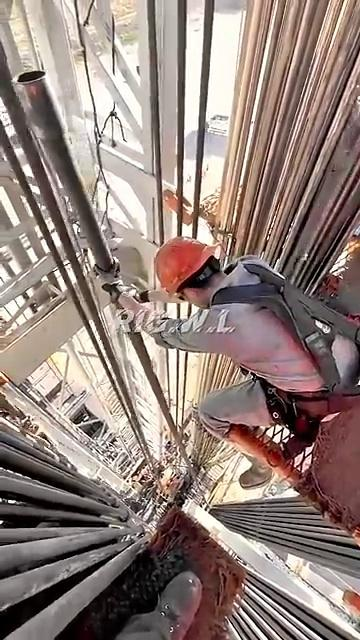gloves: (93, 250, 140, 300)
helmet: (152, 212, 225, 297)
shoes: (232, 437, 278, 497)
worker: (72, 210, 359, 535)
